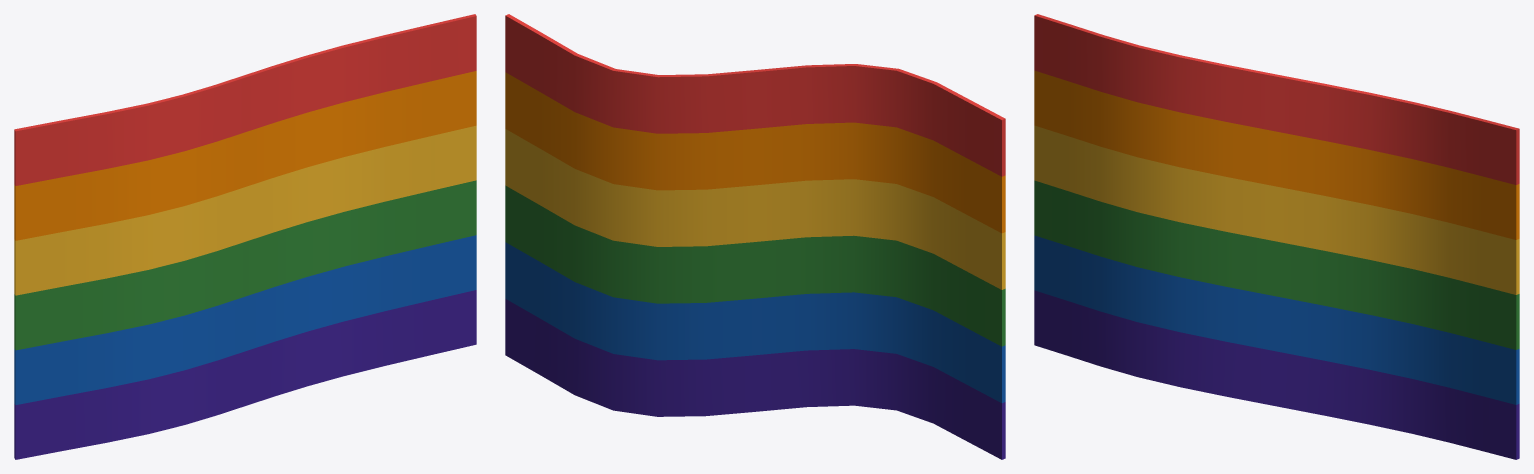
File: rainbow_flag.gltf
3 renders of one model, left to right at view 1: azimuth 30°, elevation 25°; view 2: azimuth 150°, elevation 25°; view 3: azimuth 330°, elevation 25°, orthographic. The views are drawn at different scales.
Visible parts, largest first — view 1: Plane.476; view 2: Plane.476; view 3: Plane.476.
Part boxes in pixels (left/top/right/bottom): Plane.476: left=14, top=14, right=476, bottom=459; Plane.476: left=505, top=14, right=1005, bottom=459; Plane.476: left=1034, top=14, right=1519, bottom=459.
Bounding box in the file's own units: 2.18 × 1.58 × 0.3373.
Materials: 1 (1 with a texture image).
